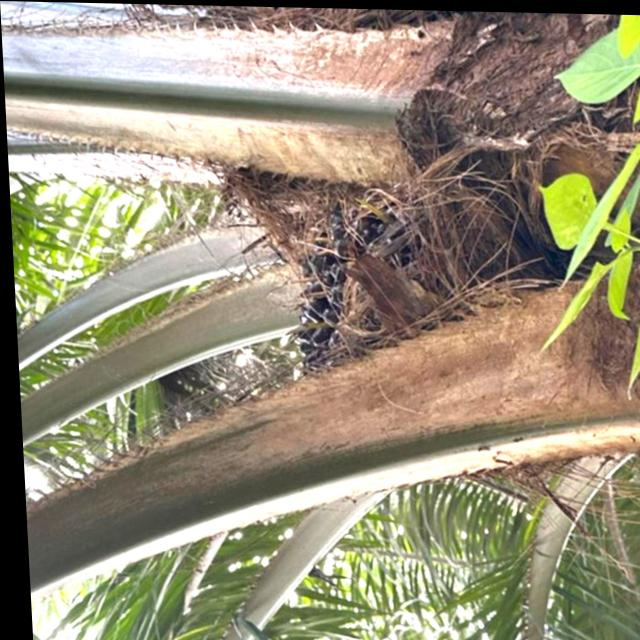almost: (272, 177, 460, 394)
